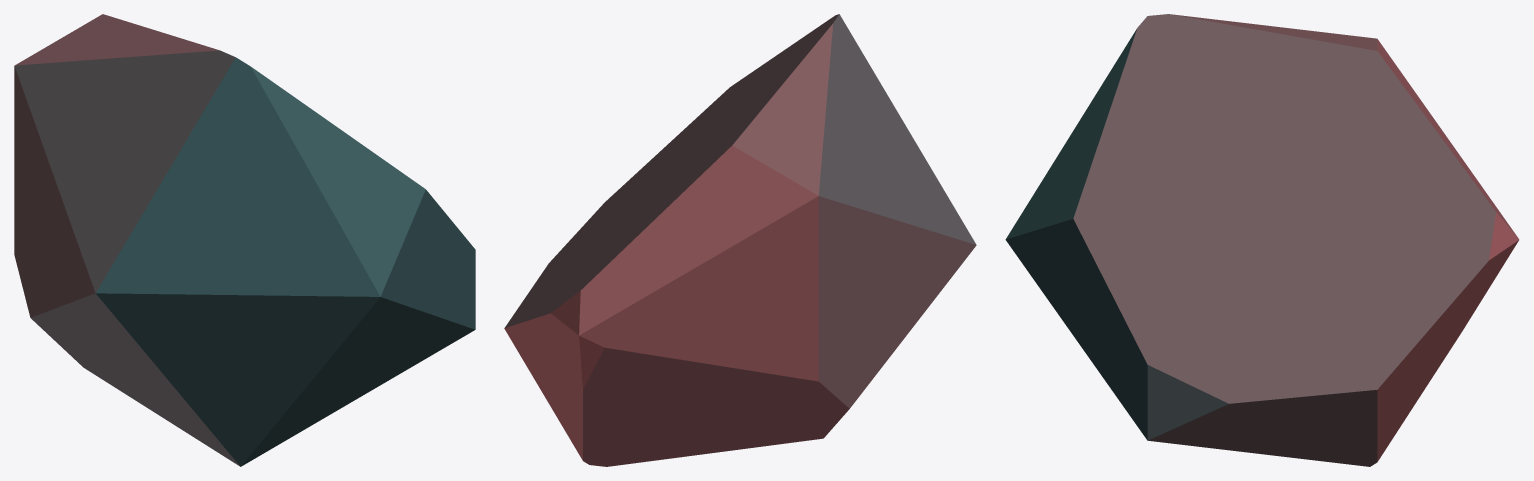
Rendered from gemstone_anim_5_neg5_10.glb.
The picture shows the model from 3 angles, left to right: view 1: azimuth 30°, elevation 25°; view 2: azimuth 150°, elevation 25°; view 3: azimuth 270°, elevation 25°; orthographic projection. The views are drawn at different scales.
Visible parts, largest first — view 1: gemstone_anim_5_neg5_10; view 2: gemstone_anim_5_neg5_10; view 3: gemstone_anim_5_neg5_10.
Boxes of the visible parts, x1,y1,x2,y2 form: gemstone_anim_5_neg5_10: (14, 14, 475, 466); gemstone_anim_5_neg5_10: (504, 14, 976, 466); gemstone_anim_5_neg5_10: (1005, 14, 1519, 466).
Bounding box in the file's own units: 1777 × 1770 × 2117.
